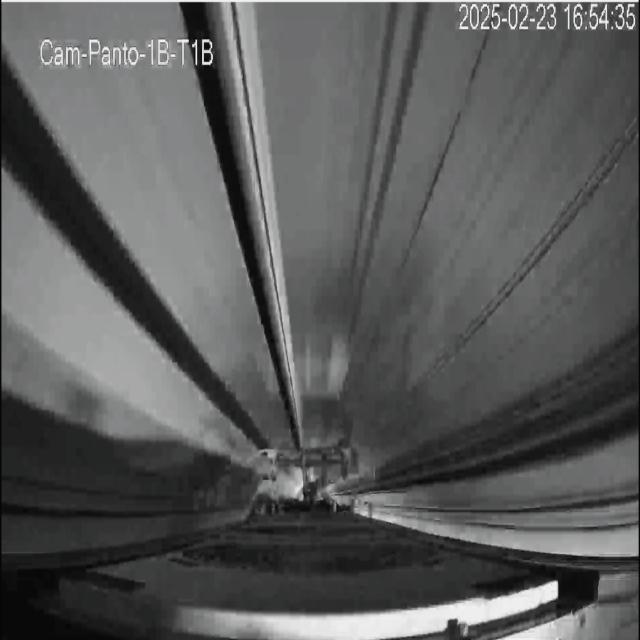Camera Stamp: (40, 32, 221, 70)
Date Stamp: (458, 3, 636, 33)
